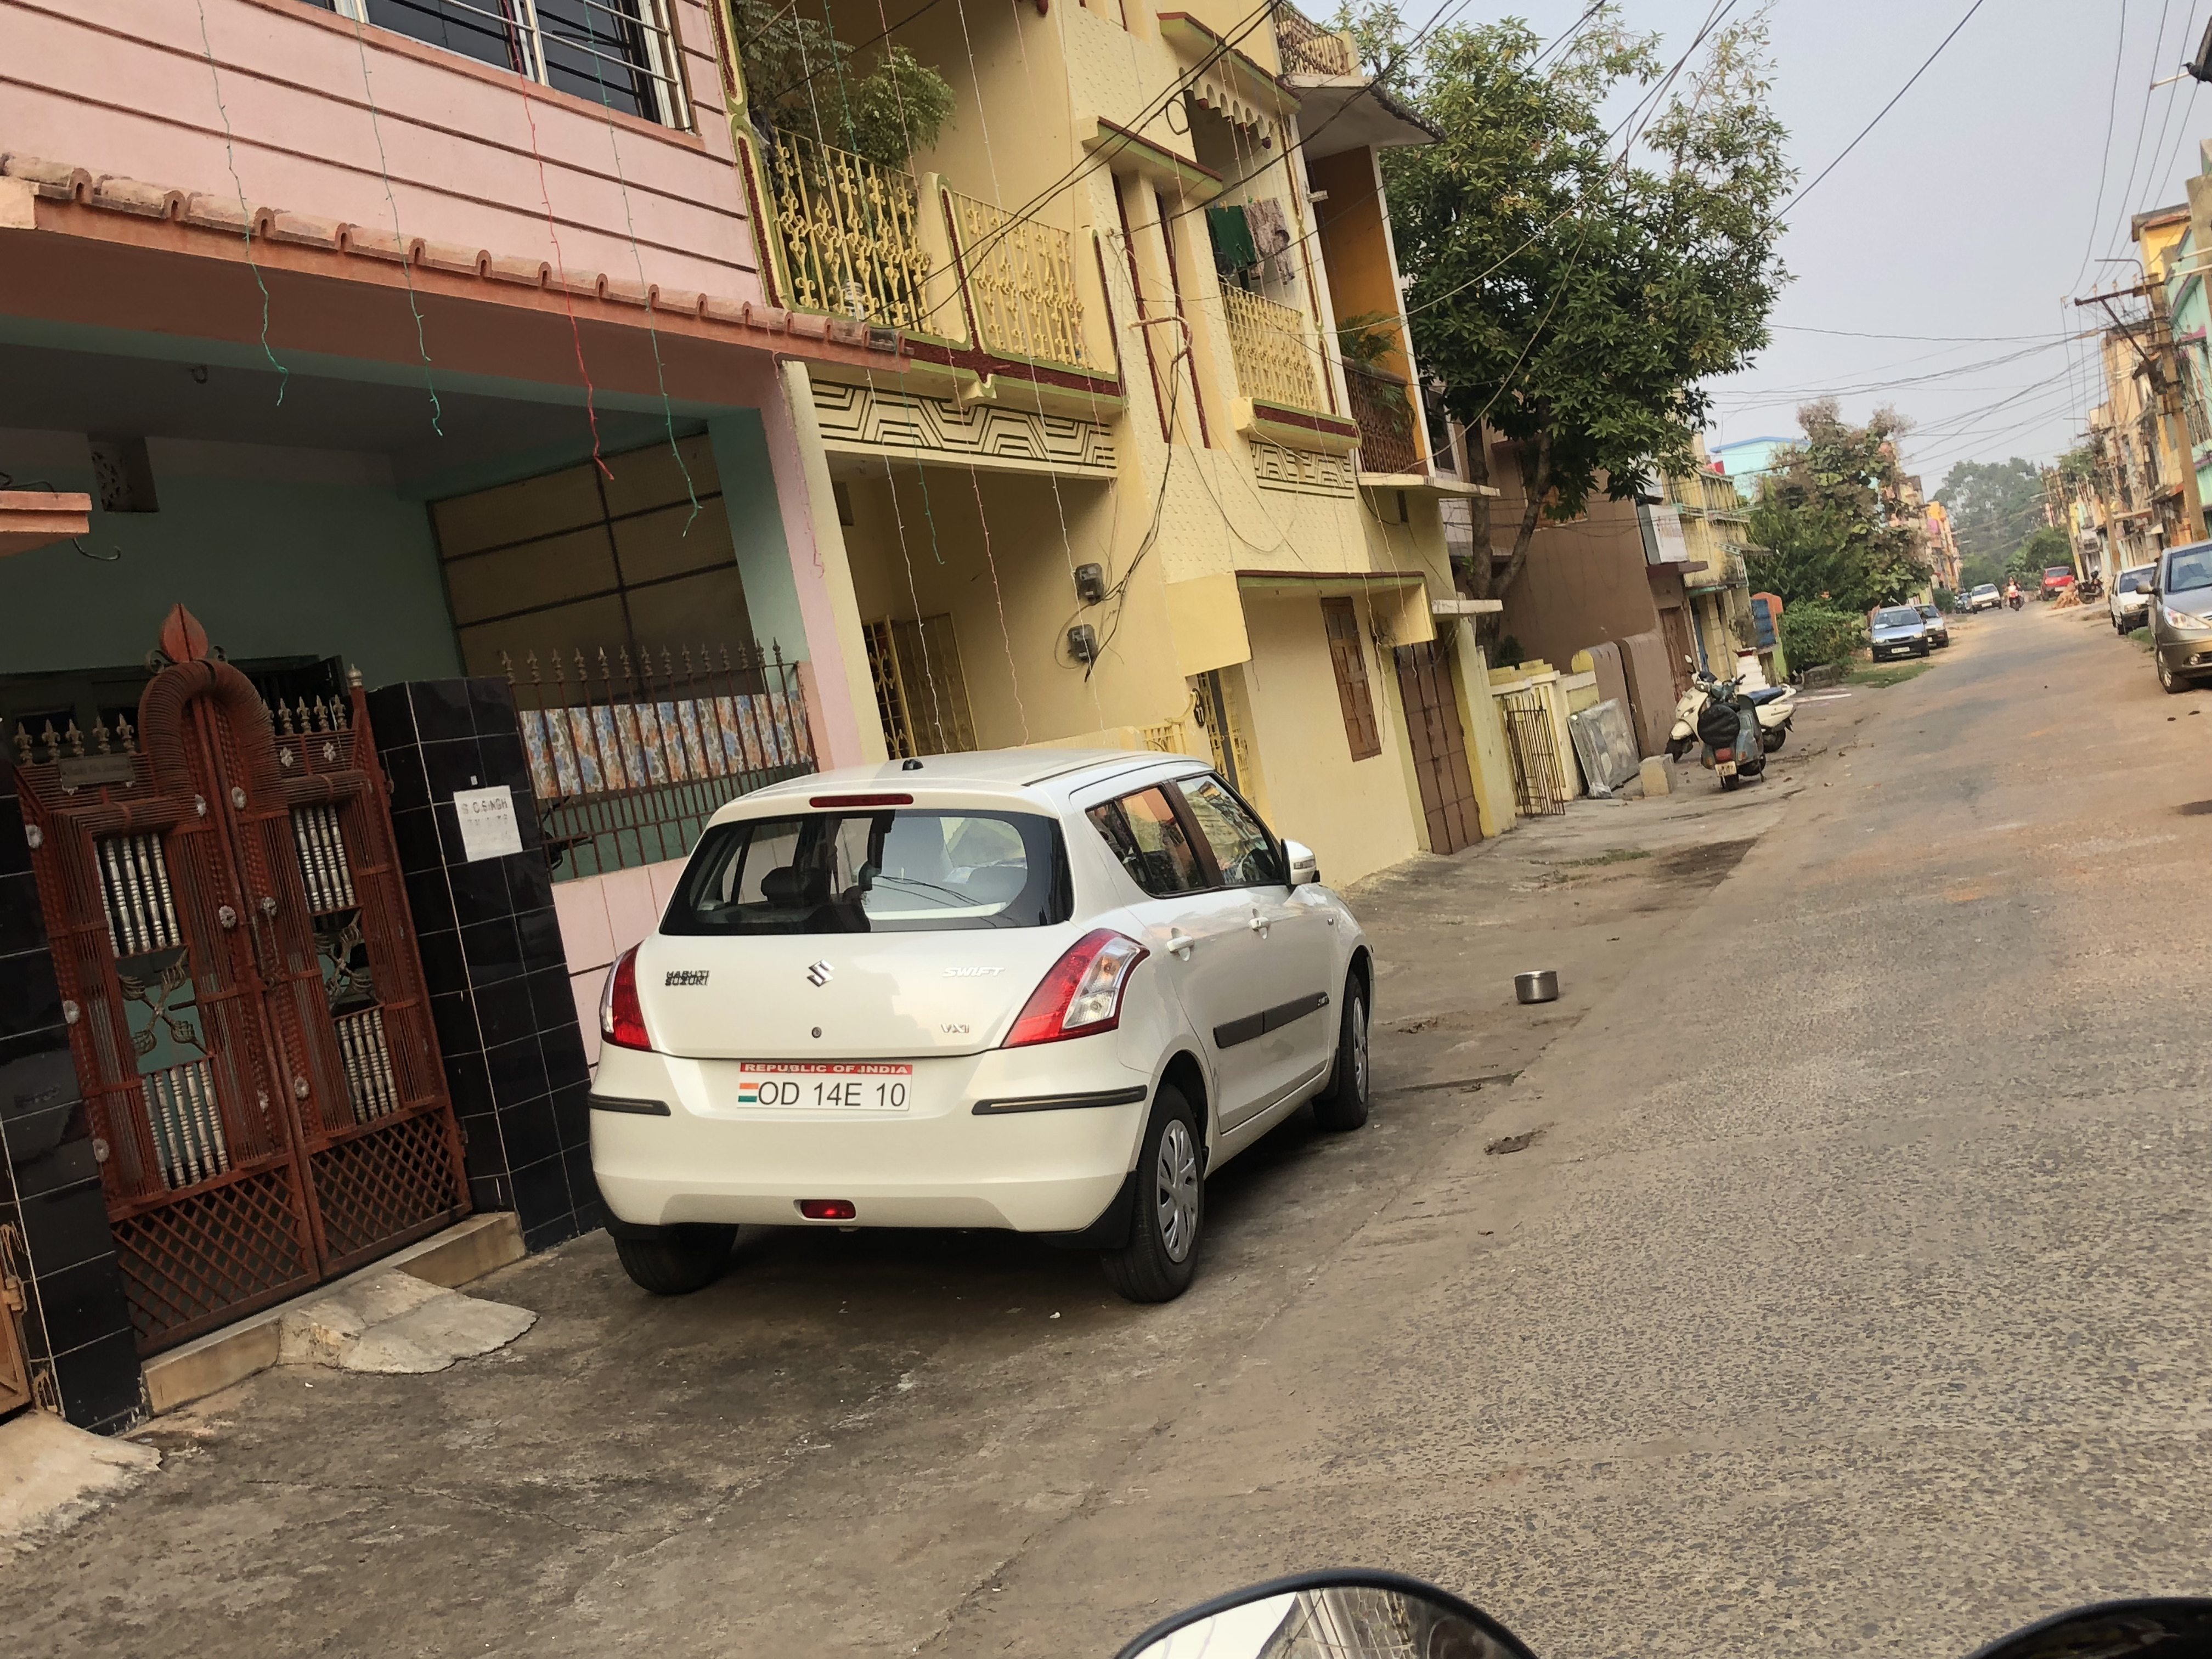licenseplate: (733, 1057, 923, 1127)
